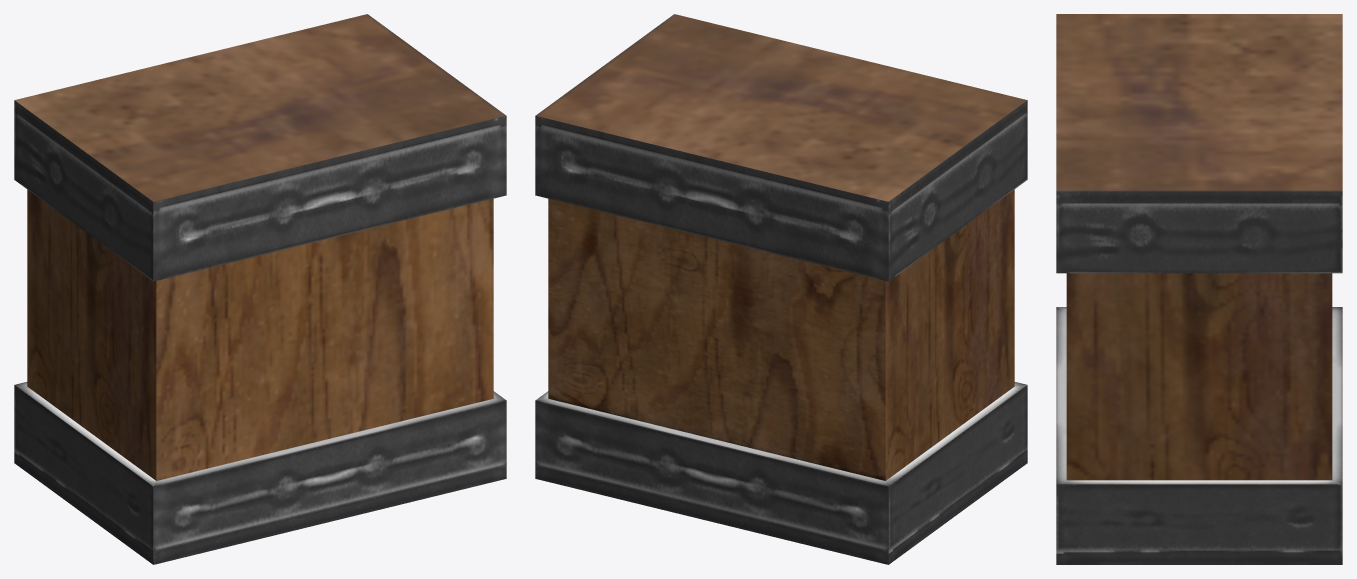
Rendered from 61_ELM_SquareRock.fbx.
3 views of the same model, side by side, from view 1: azimuth 30°, elevation 25°; view 2: azimuth 150°, elevation 25°; view 3: azimuth 270°, elevation 25° (orthographic). The views are drawn at different scales.
Visible parts, largest first — view 1: RetangleRock_cube_mod; view 2: RetangleRock_cube_mod; view 3: RetangleRock_cube_mod.
Boxes of the visible parts, box(x1,y1,x2,y2) form: RetangleRock_cube_mod: box(14, 14, 506, 564); RetangleRock_cube_mod: box(535, 14, 1027, 564); RetangleRock_cube_mod: box(1056, 14, 1342, 564).
Size of the model in its own units: 2.09 by 2.05 by 1.42.
1 material, 1 textured.
